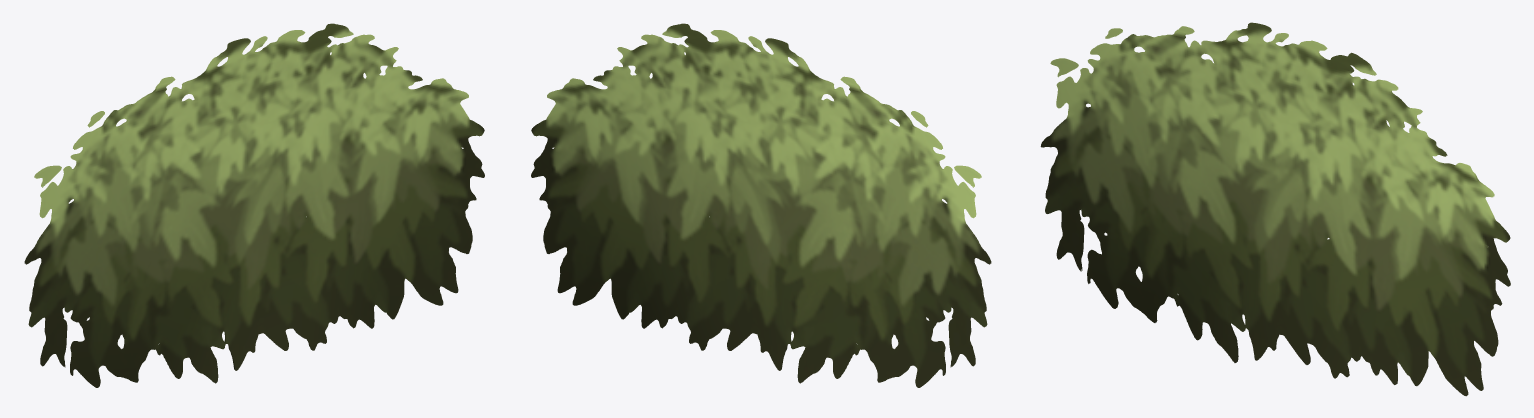
Rendered from hp_bush031.glb.
3 renders of one model, left to right at view 1: azimuth 30°, elevation 25°; view 2: azimuth 150°, elevation 25°; view 3: azimuth 330°, elevation 25°, orthographic. The views are drawn at different scales.
Parts seen in each view (by area): view 1: _MeshInstance3D_4; view 2: _MeshInstance3D_4; view 3: _MeshInstance3D_4.
Part boxes in pixels (left/top/right/bottom): _MeshInstance3D_4: left=24, top=23, right=484, bottom=387; _MeshInstance3D_4: left=531, top=23, right=991, bottom=387; _MeshInstance3D_4: left=1040, top=22, right=1510, bottom=396.
Bounding box in the file's own units: 10.05 × 7.21 × 0.04.
1 material, 1 textured.
